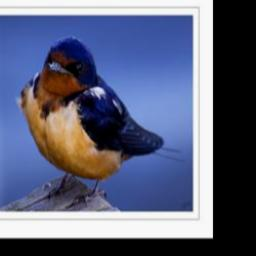Swallow: (14, 33, 186, 208)
